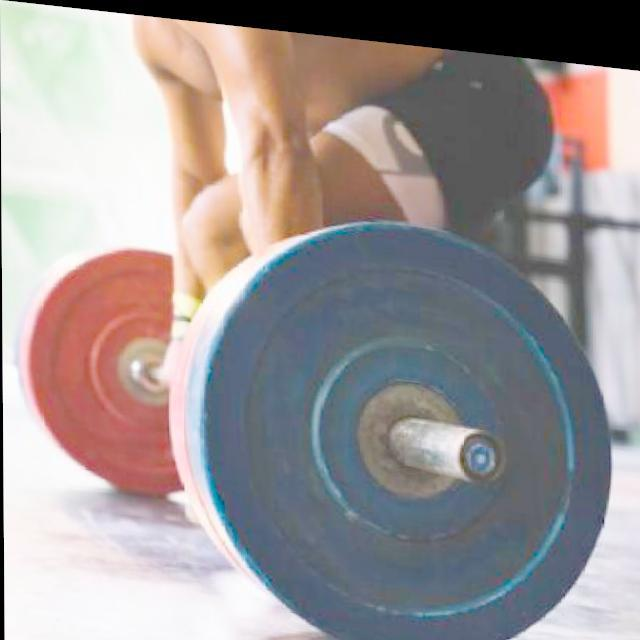barbell: (191, 188, 619, 640)
